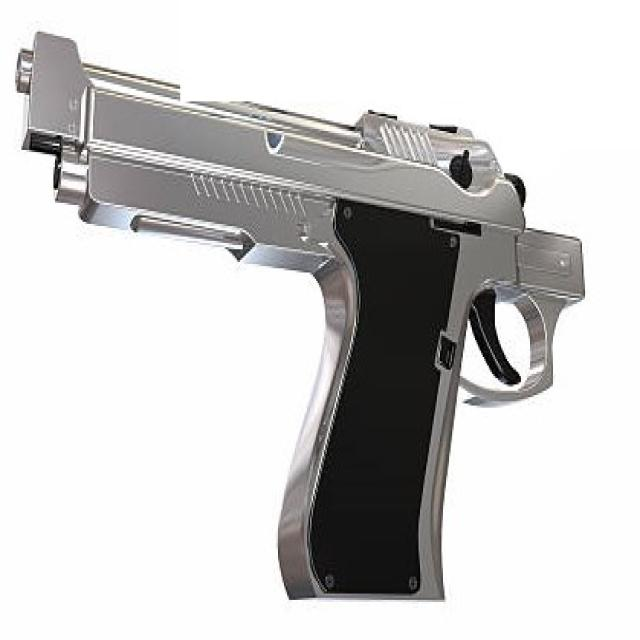pistol: (7, 20, 589, 610)
